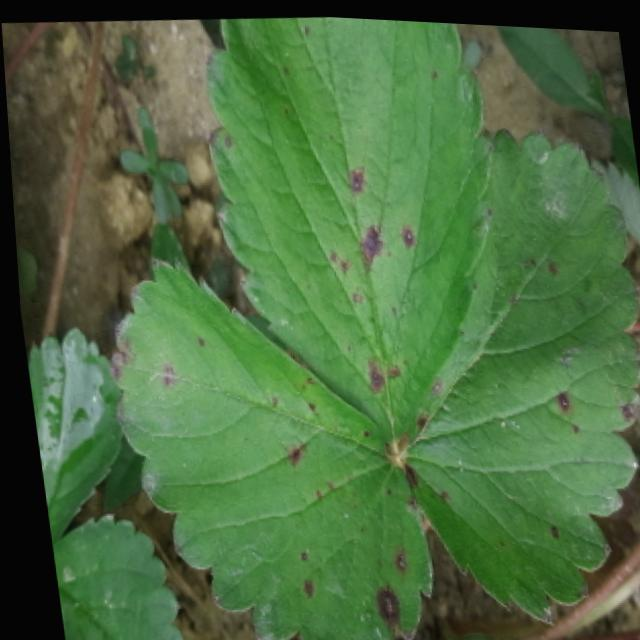Leaf Spot: (202, 13, 489, 449), (100, 254, 423, 640), (394, 121, 640, 618)
